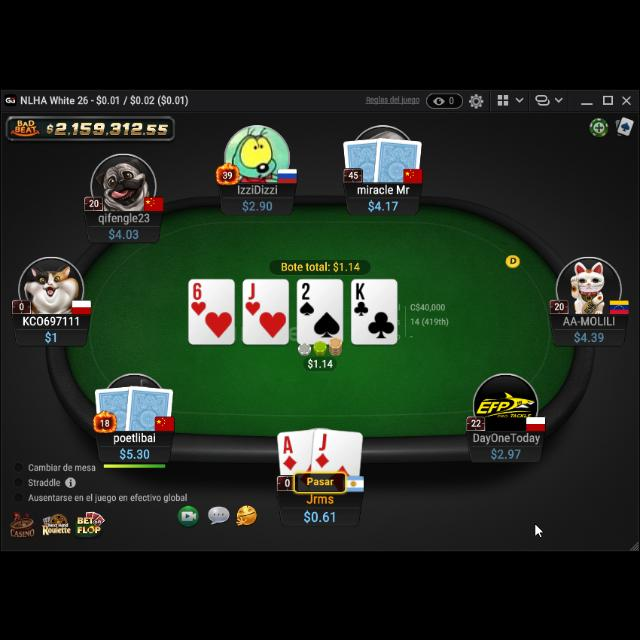2s: (298, 281, 316, 317)
6h: (190, 281, 208, 315)
Ad: (282, 434, 298, 471)
Jd: (314, 430, 330, 468)
Jh: (244, 281, 262, 315)
Kc: (354, 282, 370, 316)
bet_text: (306, 355, 336, 369)
card_back: (124, 382, 174, 430), (373, 134, 423, 182), (342, 136, 386, 180), (94, 384, 134, 432)
dealer: (504, 250, 522, 268)
pot_text: (280, 259, 362, 271)
stack_text: (303, 505, 337, 523), (572, 328, 606, 342), (106, 224, 140, 238), (118, 445, 152, 459), (490, 445, 522, 459), (242, 196, 274, 210), (367, 198, 399, 210), (43, 328, 59, 342)
